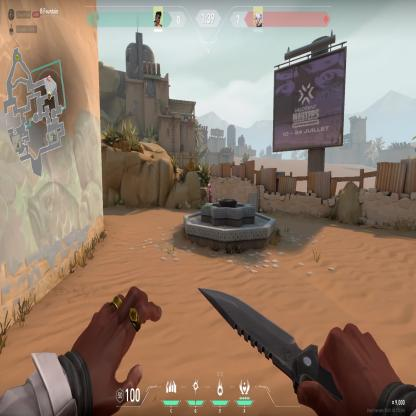enemy: (205, 184, 214, 204)
